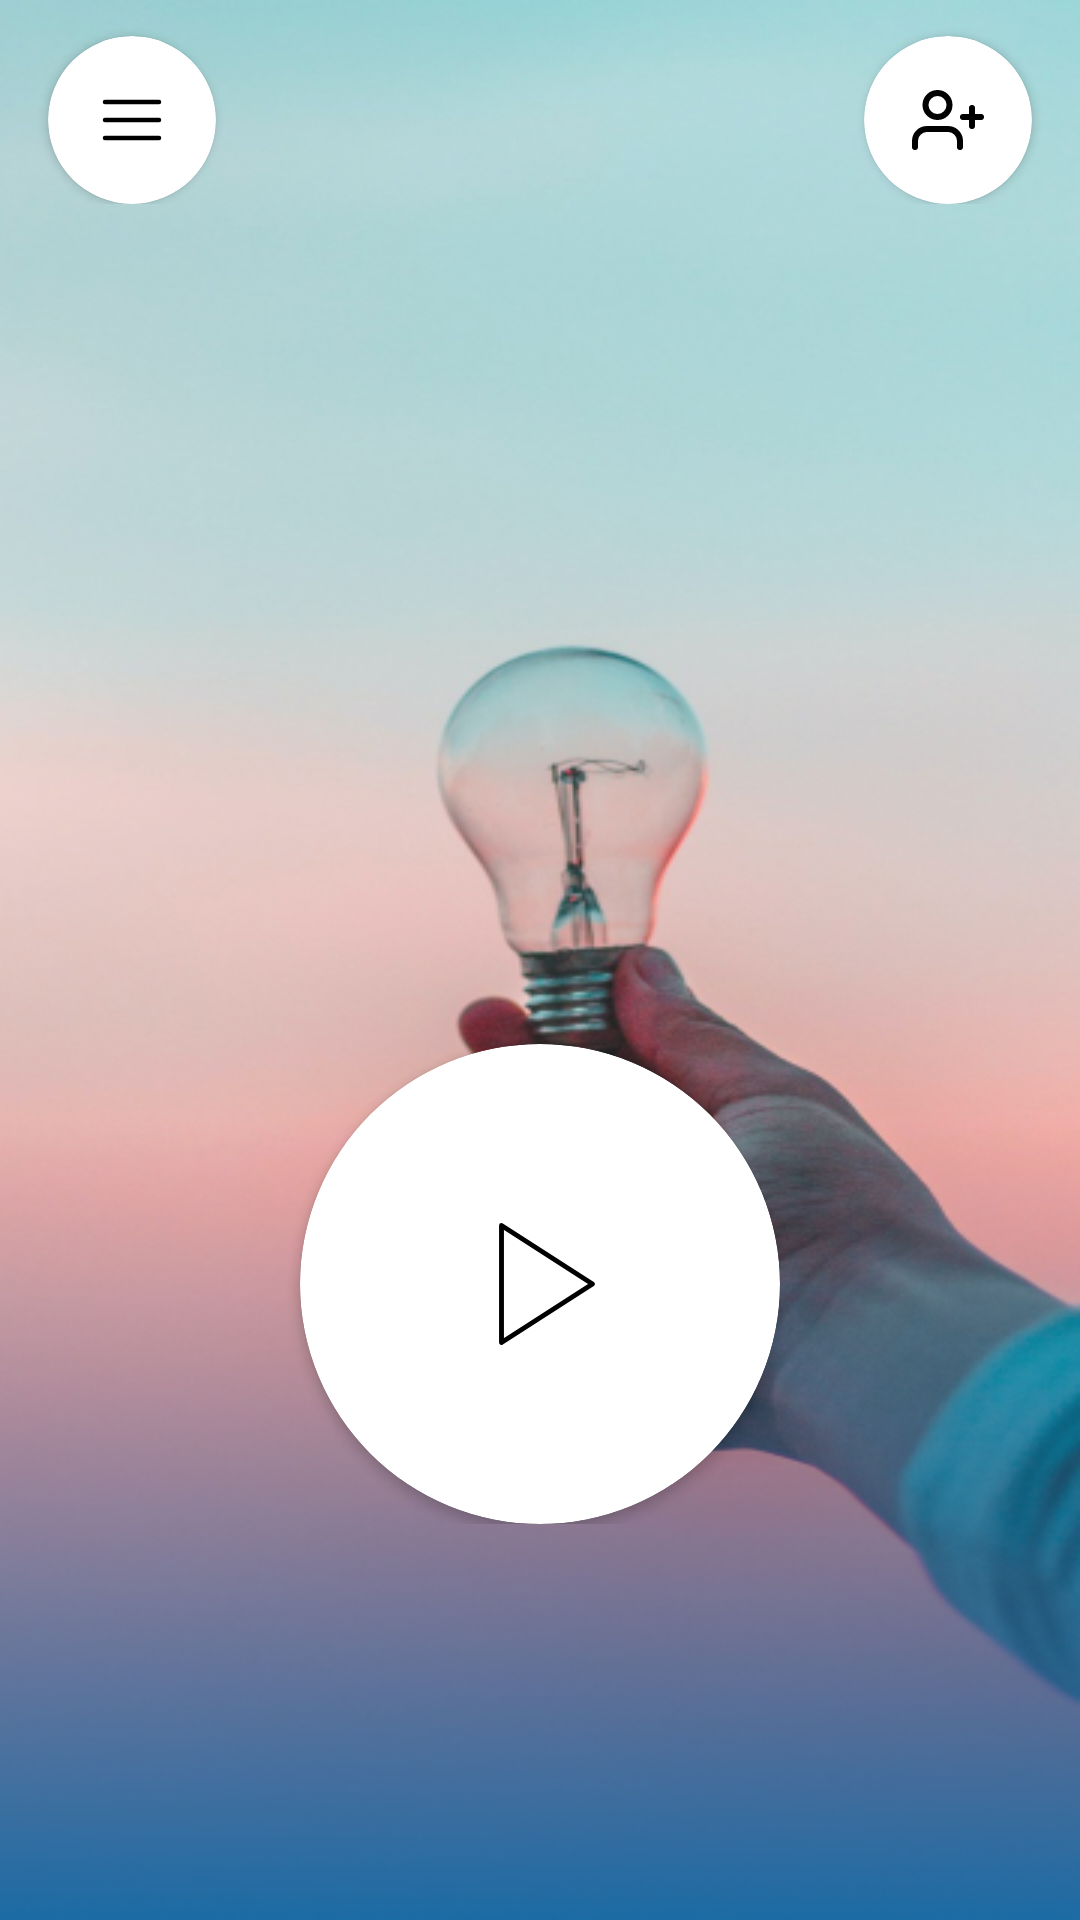

Where icons sit on this 1080px×1920px app screen, as {"x1": x1, "y1": y1, "x2": x2, "y2": y2}:
menu: {"x1": 102, "y1": 99, "x2": 162, "y2": 141}
play: {"x1": 499, "y1": 1223, "x2": 595, "y2": 1345}
user plus: {"x1": 912, "y1": 90, "x2": 984, "y2": 150}
